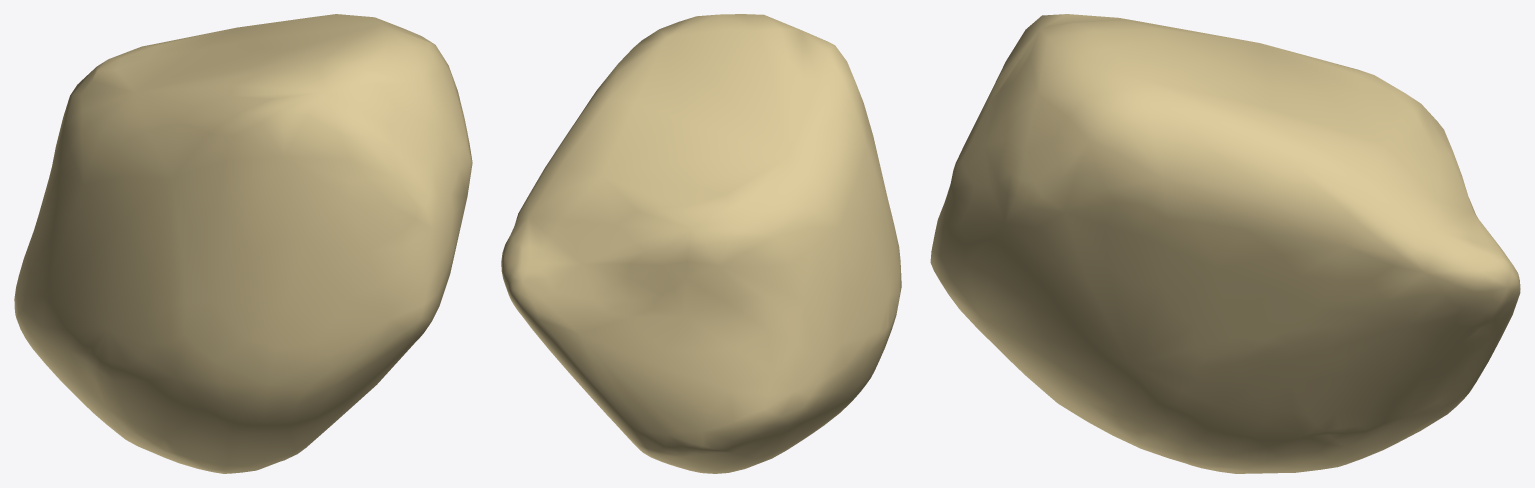
3 renders of one model, left to right at view 1: azimuth 30°, elevation 25°; view 2: azimuth 150°, elevation 25°; view 3: azimuth 270°, elevation 25°, orthographic. The views are drawn at different scales.
Visible parts, largest first — view 1: 右侧豌豆骨; view 2: 右侧豌豆骨; view 3: 右侧豌豆骨.
Part boxes in pixels (x1,y1,x2,y2): 右侧豌豆骨: (14, 14, 472, 473); 右侧豌豆骨: (501, 14, 901, 473); 右侧豌豆骨: (930, 14, 1520, 473).
Size of the model in its own units: 0.0125 by 0.0154 by 0.0178.
